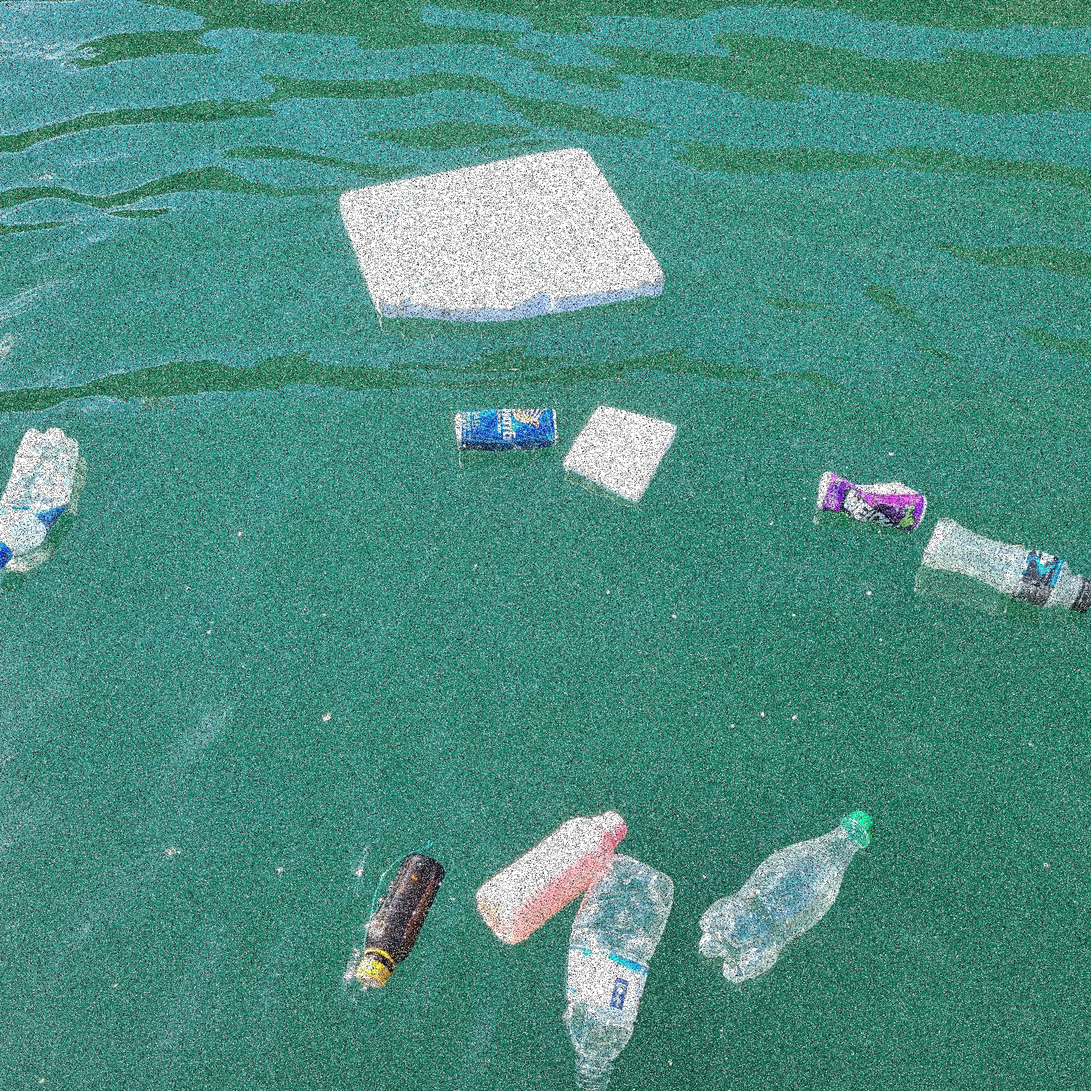sampah_terapung: (340, 149, 665, 323), (699, 811, 877, 985), (566, 853, 674, 1091), (477, 812, 627, 945), (922, 518, 1091, 614), (357, 853, 446, 989), (1, 427, 79, 569), (564, 406, 678, 503), (817, 471, 928, 532), (455, 409, 557, 452)
